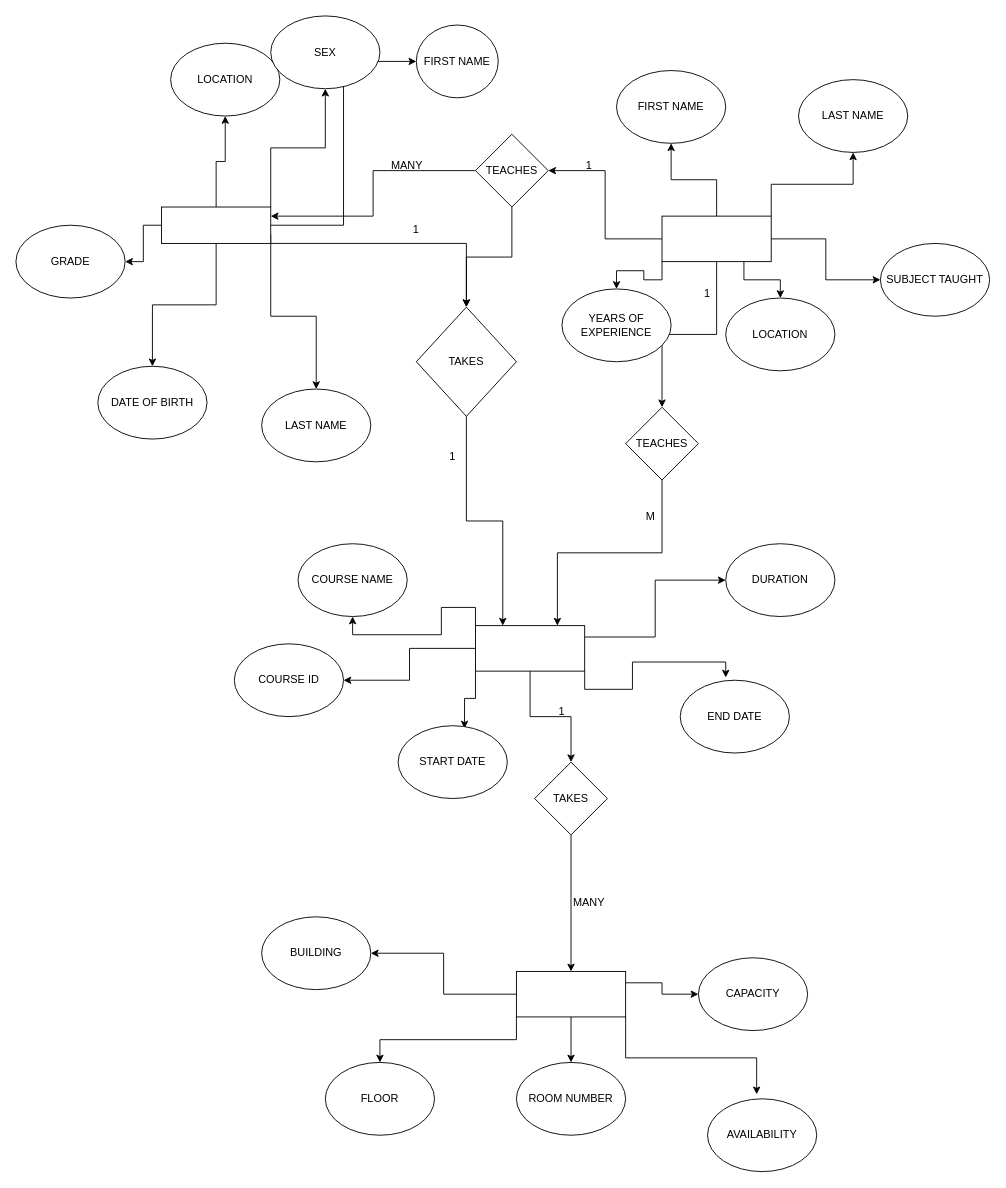
Image size: 1006x1188. Some labels were removed from this diagram. Here are the shapes that lost their labels. From the top down, the box of each, then its label:
(161, 206, 271, 243): STUDENT
(661, 215, 771, 262): TEACHERS
(475, 625, 585, 671): COURSE
(516, 971, 626, 1017): CLASSROOM
